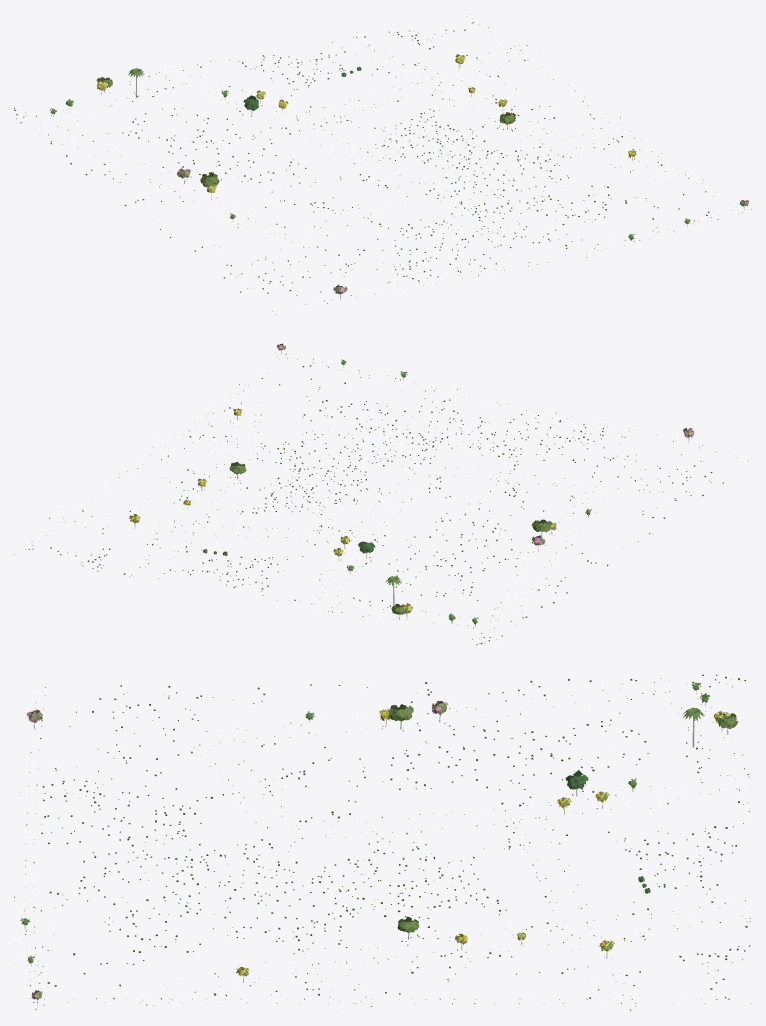
File: Vegetation.fbx
3 renders of one model, top to bottom at view 1: azimuth 30°, elevation 25°; view 2: azimuth 150°, elevation 25°; view 3: azimuth 270°, elevation 25°, orthographic. The views are drawn at different scales.
Visible parts, largest first — view 1: EXPORT_OT_Vegetation_SA_M01_02_S00_00; view 2: EXPORT_OT_Vegetation_SA_M01_02_S00_00; view 3: EXPORT_OT_Vegetation_SA_M01_02_S00_00.
Boxes of the visible parts, left/top/right/bottom form: EXPORT_OT_Vegetation_SA_M01_02_S00_00: left=14, top=21, right=751, bottom=314; EXPORT_OT_Vegetation_SA_M01_02_S00_00: left=14, top=343, right=751, bottom=645; EXPORT_OT_Vegetation_SA_M01_02_S00_00: left=14, top=674, right=751, bottom=1011.
Bounding box in the file's own units: 250 × 23.69 × 250.
